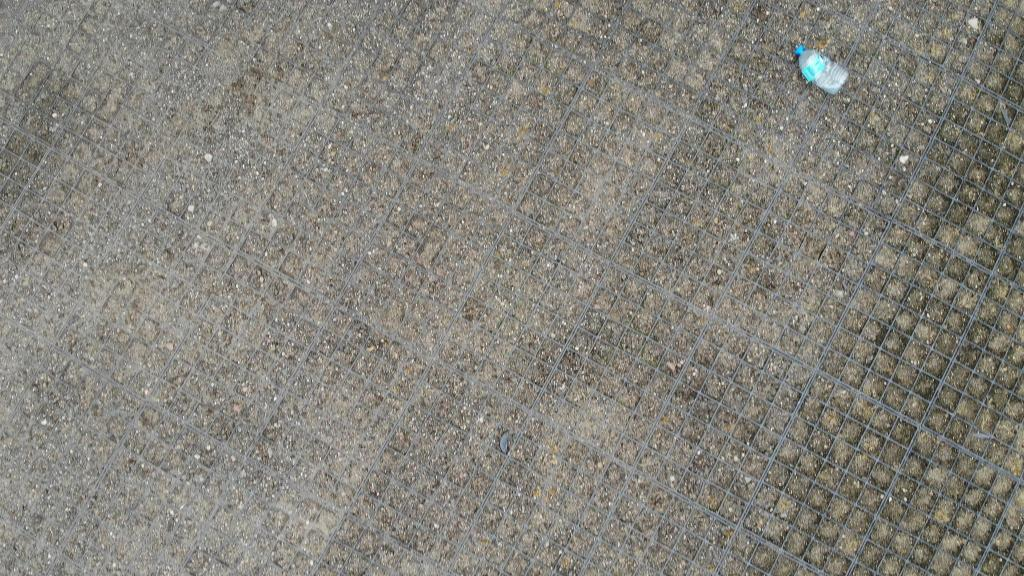garbage: (795, 44, 851, 94)
